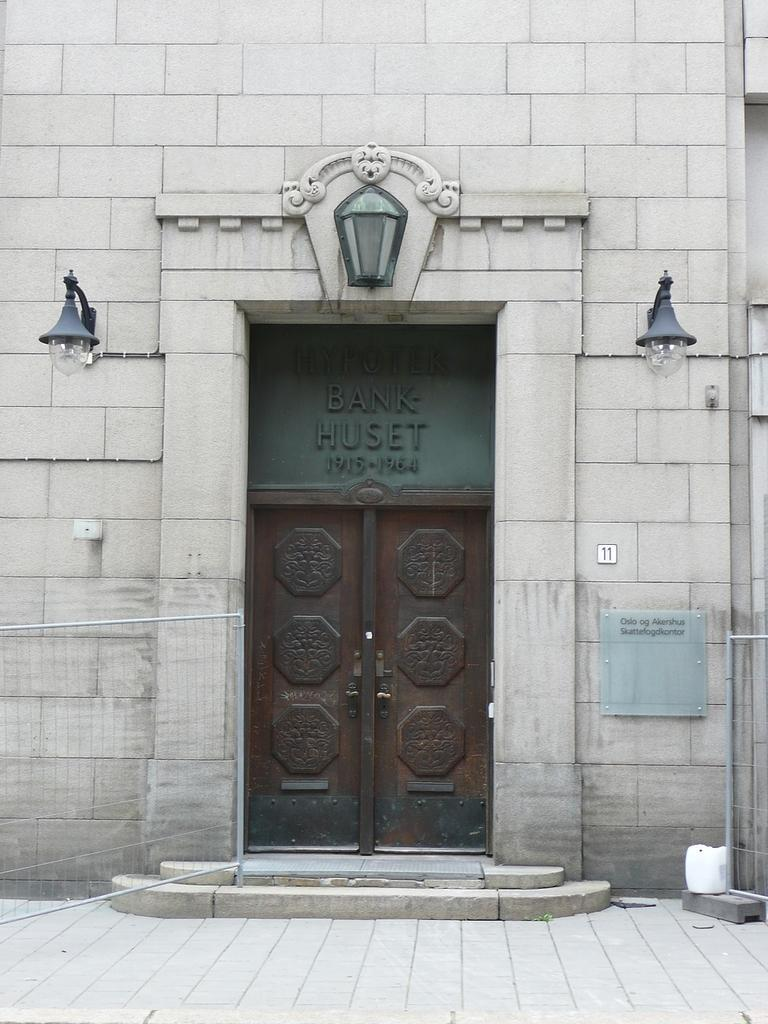door: (378, 515, 490, 852), (256, 509, 361, 849)
handle: (378, 676, 392, 716), (345, 678, 359, 710)
